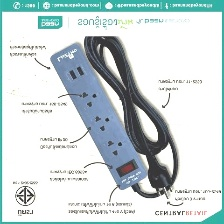three_eye_plug: (47, 40, 149, 192)
